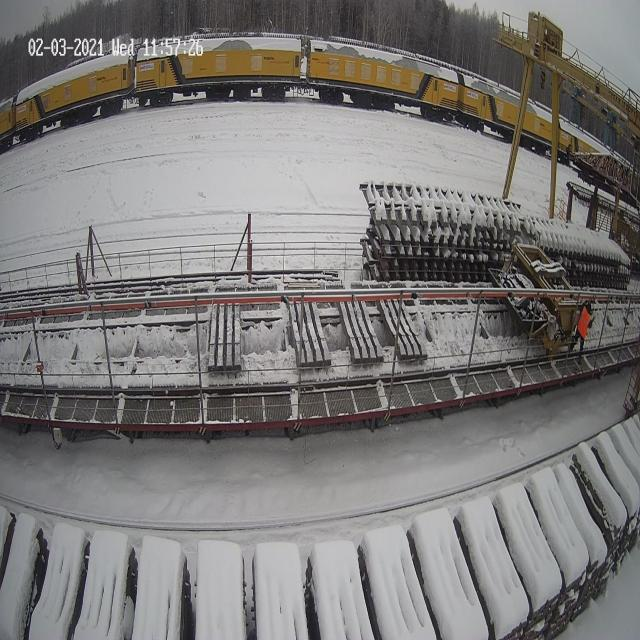Person: (568, 299, 592, 364)
